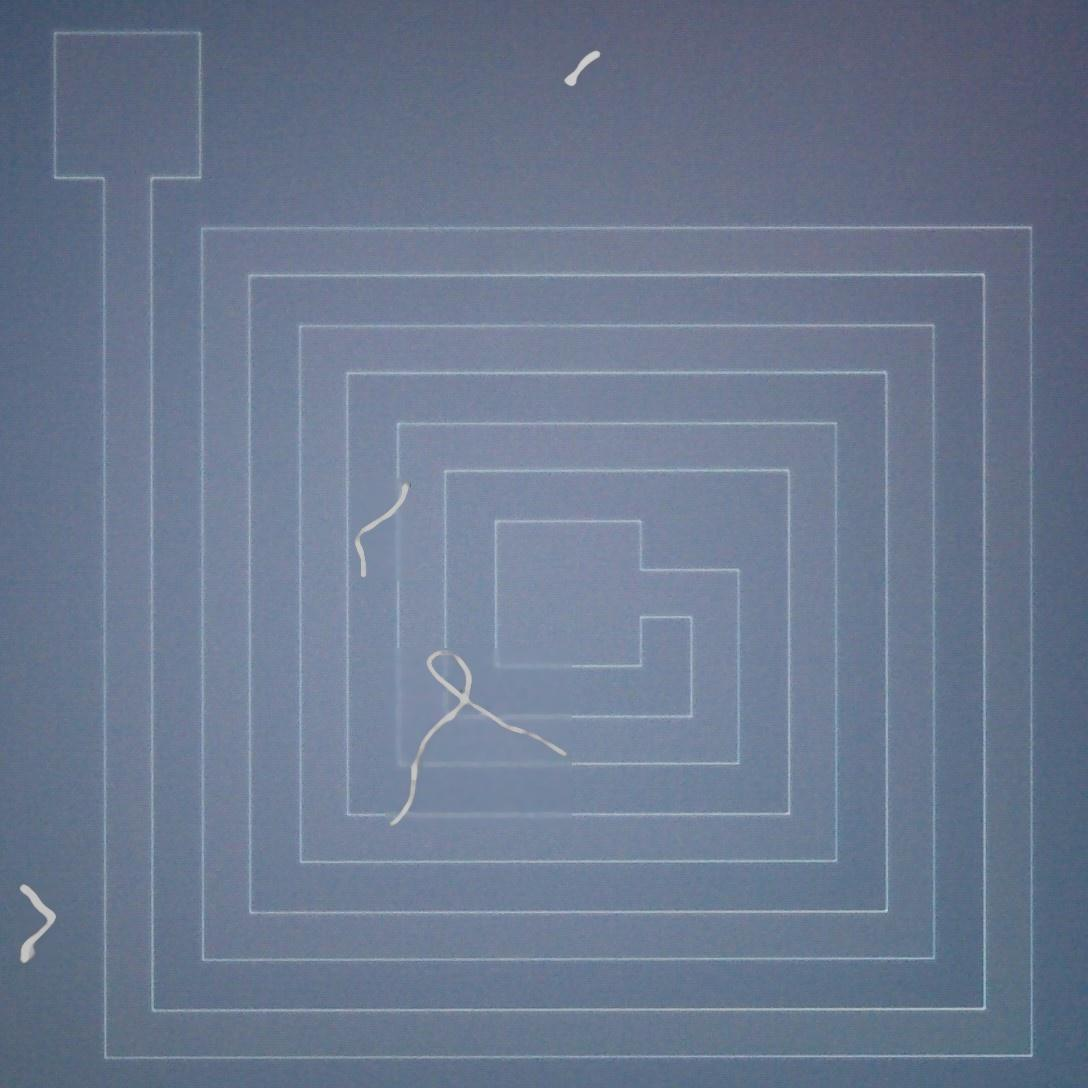foreign: (382, 644, 575, 835), (349, 479, 416, 580), (10, 876, 66, 967), (562, 46, 606, 91)
